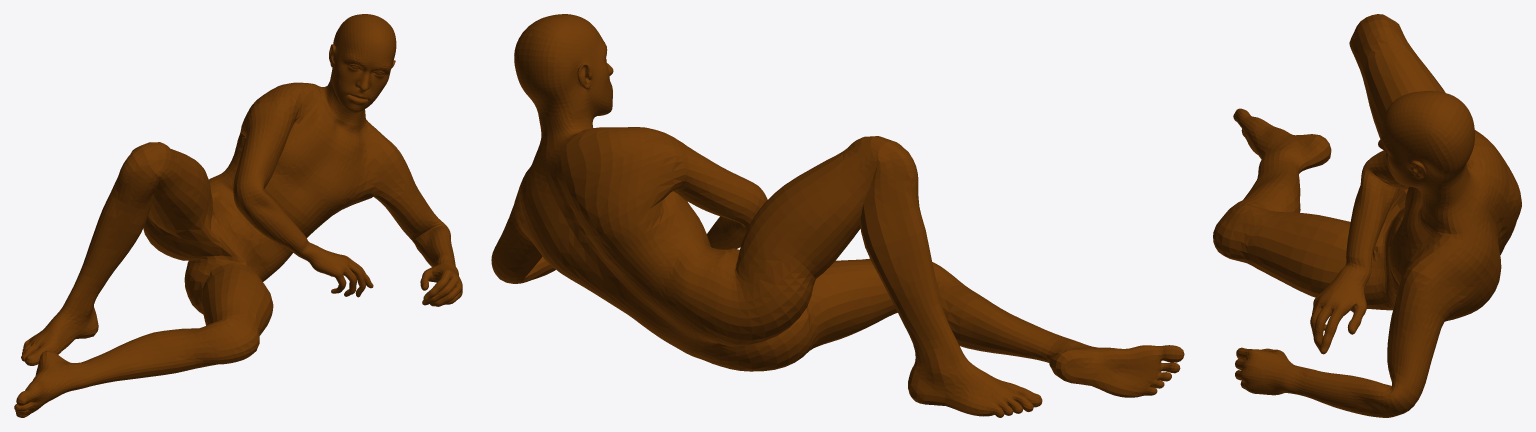
File: pose_original_4.obj
3 views of the same model, side by side, from view 1: azimuth 30°, elevation 25°; view 2: azimuth 150°, elevation 25°; view 3: azimuth 270°, elevation 25° (orthographic). The views are drawn at different scales.
Bounding box in the file's own units: 2.54 × 1.24 × 1.12.
